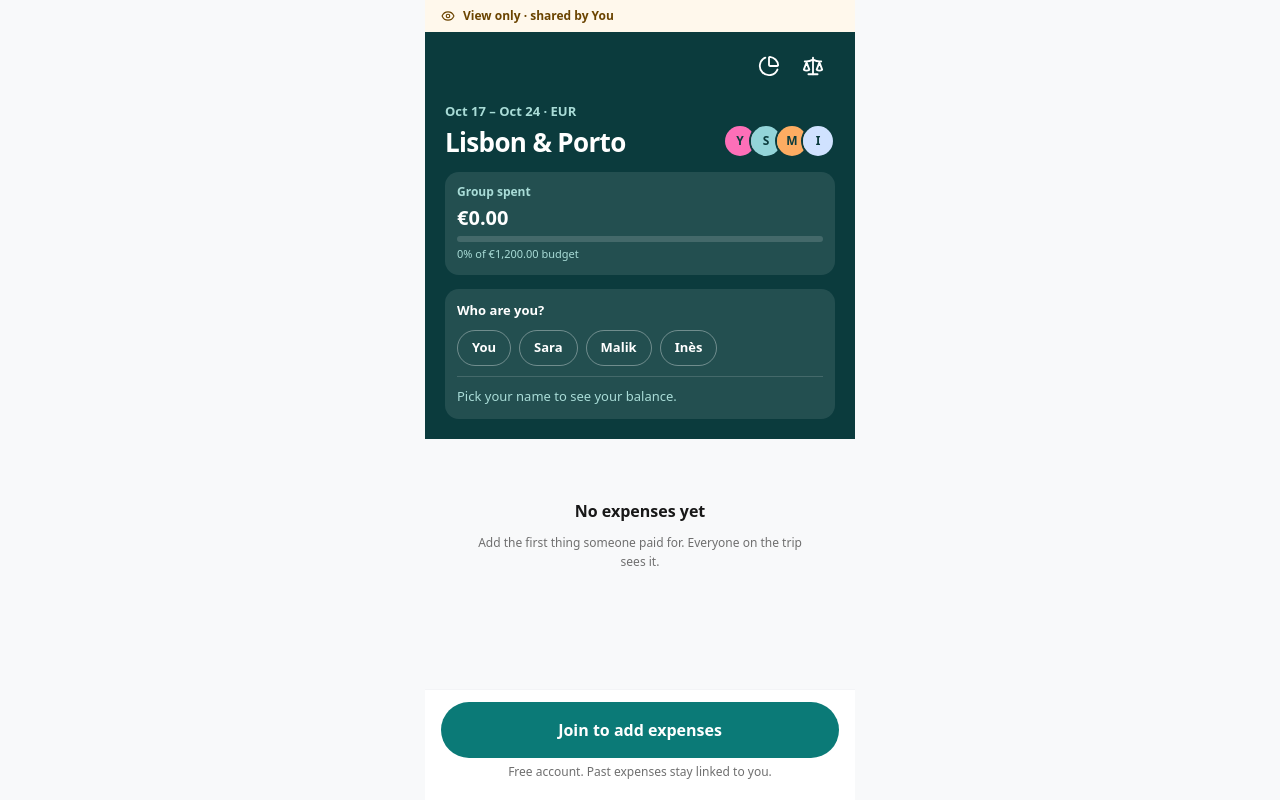
public view-only trip › says a settled member is settled up, and ignores a stored pick that is no longer a member
Expected: the heading "Lisbon & Porto" is shown, left=445, top=126, right=626, bottom=158
Expected: the text "Pick your name to see your balance." is shown, left=457, top=387, right=677, bottom=405
Click the button "Sara": (548, 348) left=519, top=330, right=578, bottom=366
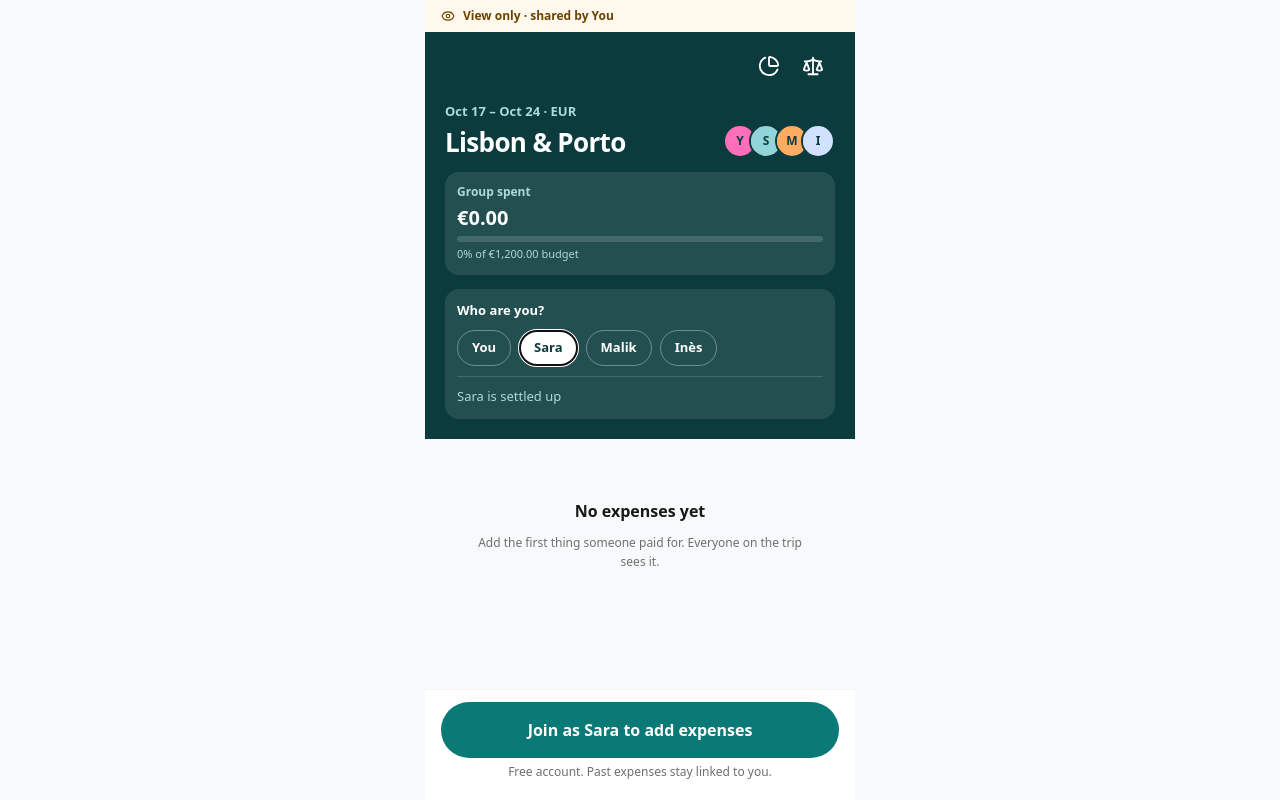
Expected: the text "Sara is settled up" is shown, left=457, top=387, right=561, bottom=405
